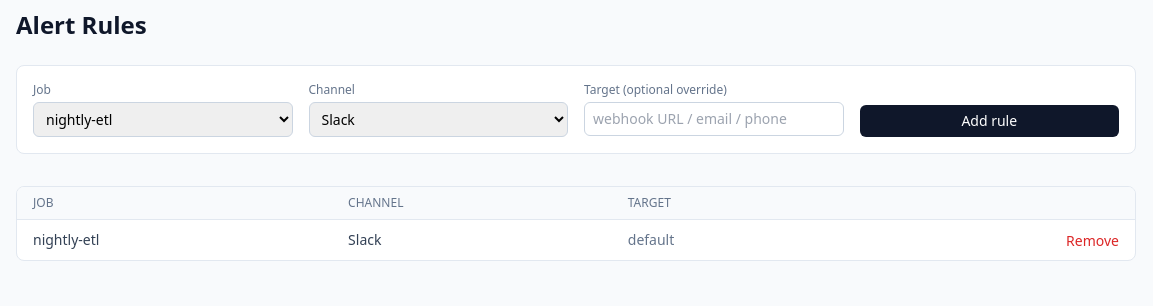
Test: AlertRulesPage › deletes a rule and refreshes when Remove is clicked
This screenshot has width=1153, height=306.
Check: the text "default" is shown, box [612, 220, 863, 260]
Click the button "Remove".
click(1093, 241)  # box [1066, 231, 1119, 251]
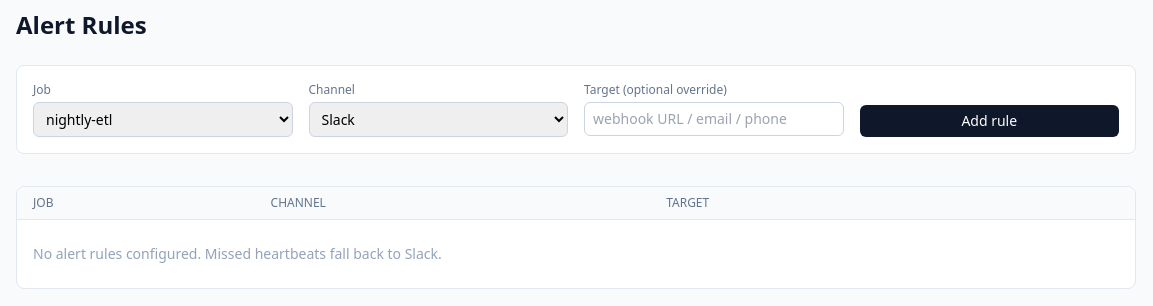
Check: the text "No alert rules configured. Missed heartbeats fall back to Slack." is shown, box [17, 220, 1135, 288]
